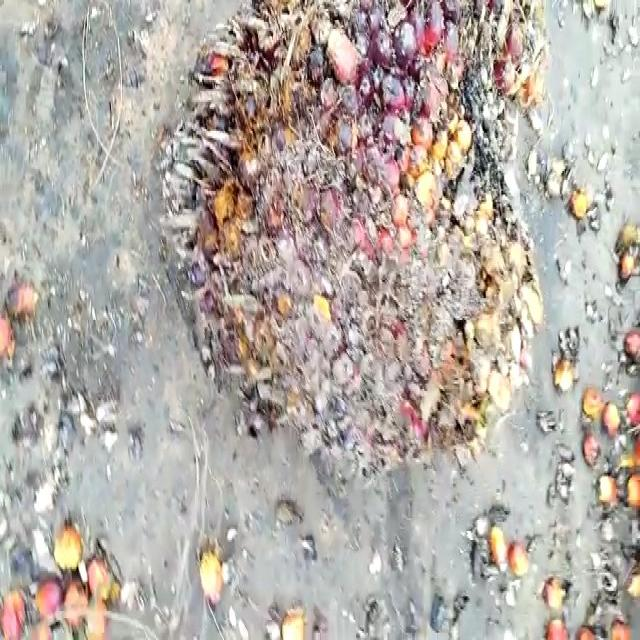palm oil: (164, 0, 543, 480)
